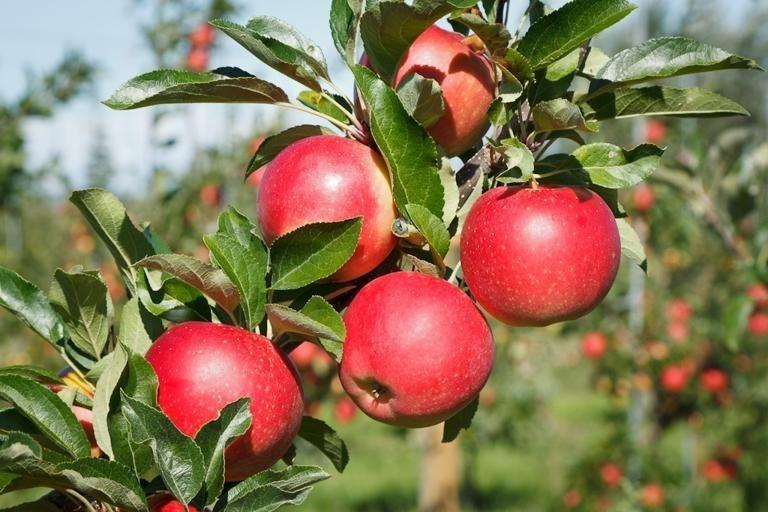apples: (128, 318, 317, 480), (457, 155, 631, 321), (336, 267, 497, 429), (241, 125, 399, 282), (356, 14, 532, 150)
